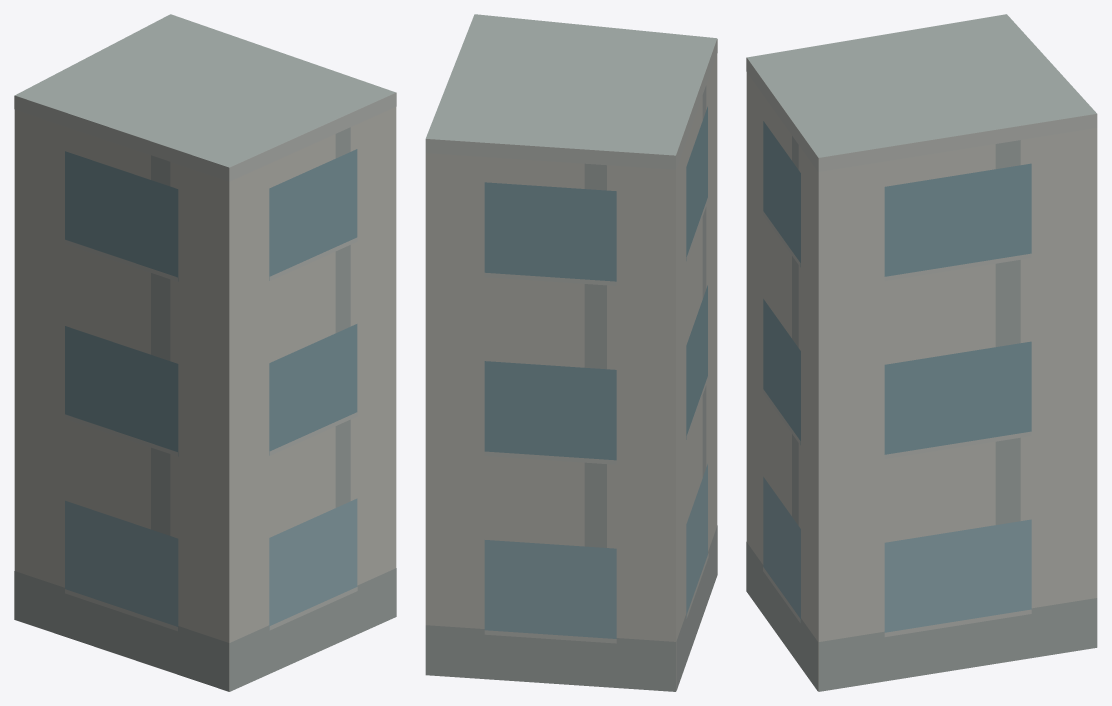
Rendered from survey-upis-32541755.glb.
3 views of the same model, side by side, from view 1: azimuth 30°, elevation 25°; view 2: azimuth 150°, elevation 25°; view 3: azimuth 270°, elevation 25° (orthographic). The views are drawn at different scales.
Visible parts, largest first — view 1: survey-upis-32541755.tmp; view 2: survey-upis-32541755.tmp; view 3: survey-upis-32541755.tmp.
Boxes of the visible parts, x1,y1,x2,y2 form: survey-upis-32541755.tmp: [14, 14, 396, 691]; survey-upis-32541755.tmp: [425, 14, 717, 691]; survey-upis-32541755.tmp: [746, 14, 1097, 691].
Bounding box in the file's own units: 5.3 × 9.15 × 5.46.
